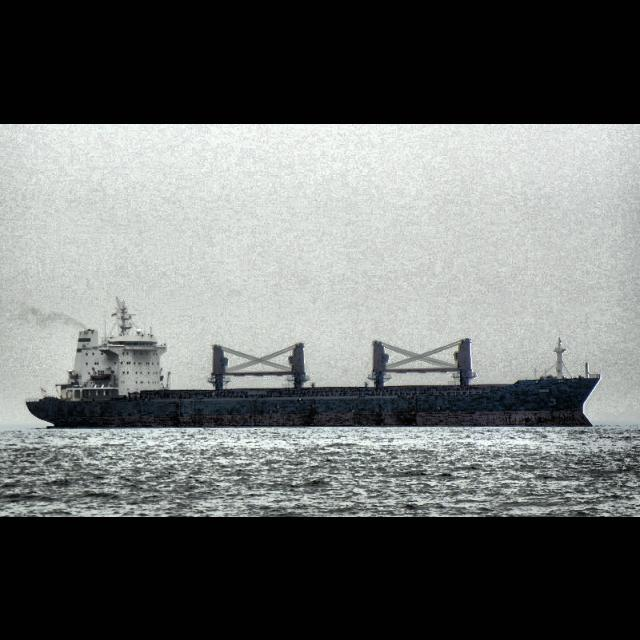bulk_carrier: (26, 301, 600, 429)
